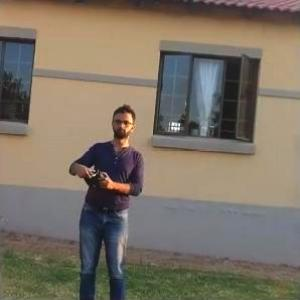follow: (62, 95, 151, 299)
